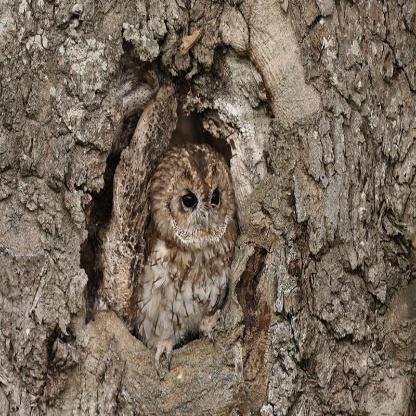Owl: (135, 146, 232, 355)
